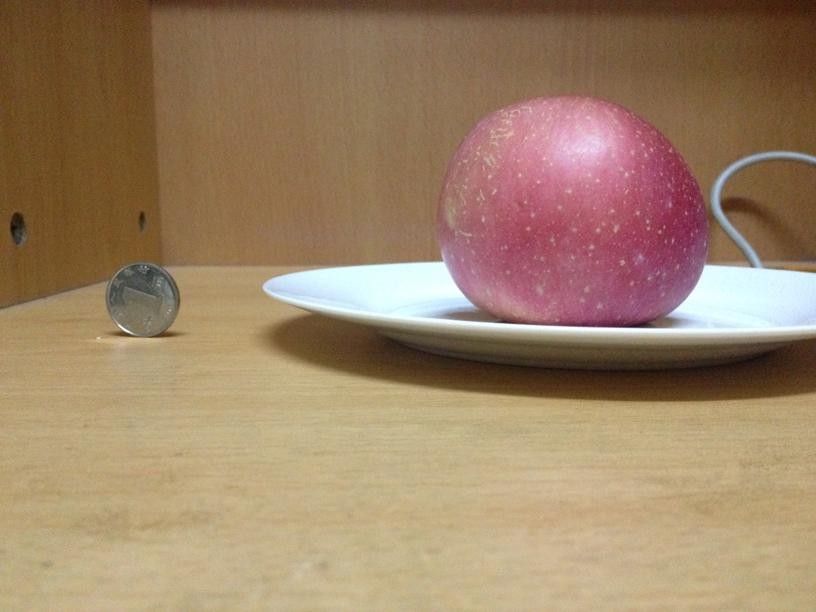apple: (431, 98, 708, 324)
coin: (100, 262, 180, 338)
